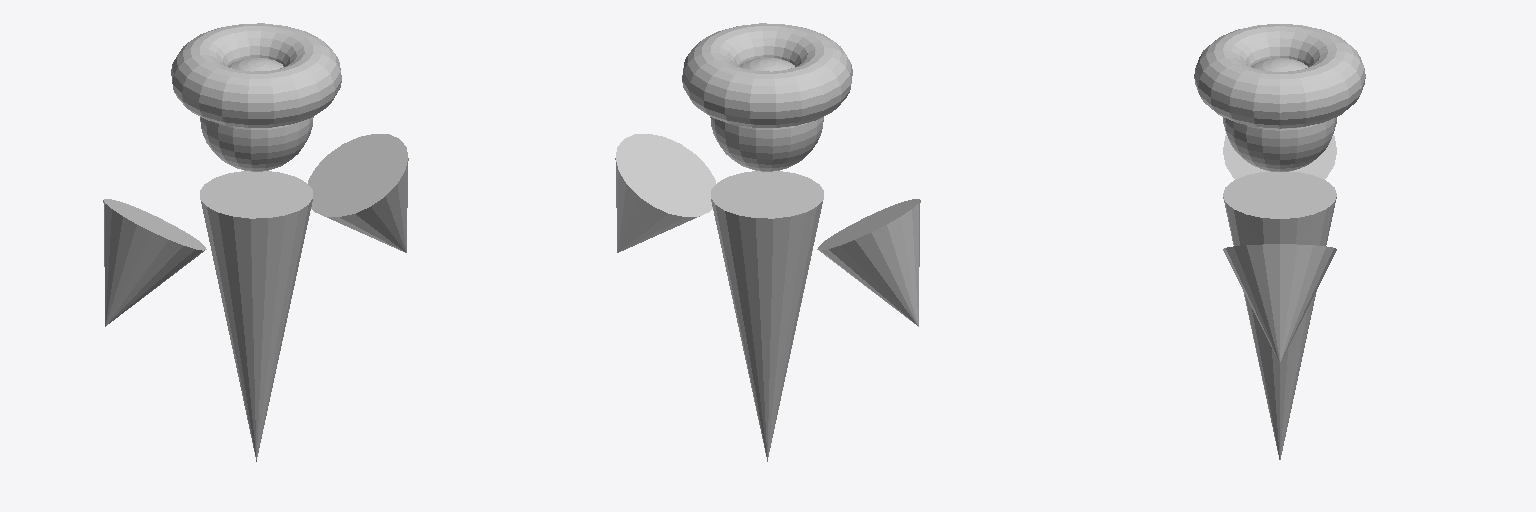
Rendered from Character.obj.
3 renders of one model, left to right at view 1: azimuth 30°, elevation 25°; view 2: azimuth 150°, elevation 25°; view 3: azimuth 270°, elevation 25°, orthographic.
Visible parts, largest first — view 1: group1 pCone1, group1 pTorus1, group1 pCone3, pCone2 group1, group1 pSphere1; view 2: group1 pCone1, group1 pTorus1, group1 pCone3, pCone2 group1, group1 pSphere1; view 3: group1 pTorus1, group1 pCone1, group1 pCone3, group1 pSphere1, pCone2 group1.
Part boxes in pixels (bbox=[...]): group1 pCone1: bbox=[200, 171, 312, 461]; group1 pTorus1: bbox=[171, 23, 341, 127]; group1 pCone3: bbox=[308, 134, 408, 252]; pCone2 group1: bbox=[103, 199, 206, 326]; group1 pSphere1: bbox=[200, 57, 313, 171]; group1 pCone1: bbox=[711, 171, 823, 461]; group1 pTorus1: bbox=[682, 23, 852, 127]; group1 pCone3: bbox=[615, 134, 715, 252]; pCone2 group1: bbox=[817, 199, 920, 326]; group1 pSphere1: bbox=[710, 57, 823, 171]; group1 pTorus1: bbox=[1194, 24, 1365, 128]; group1 pCone1: bbox=[1223, 171, 1336, 459]; group1 pCone3: bbox=[1223, 244, 1336, 361]; group1 pSphere1: bbox=[1223, 58, 1336, 171]; pCone2 group1: bbox=[1223, 135, 1336, 179].
Size of the model in its own units: 6.07 by 7.93 by 3.